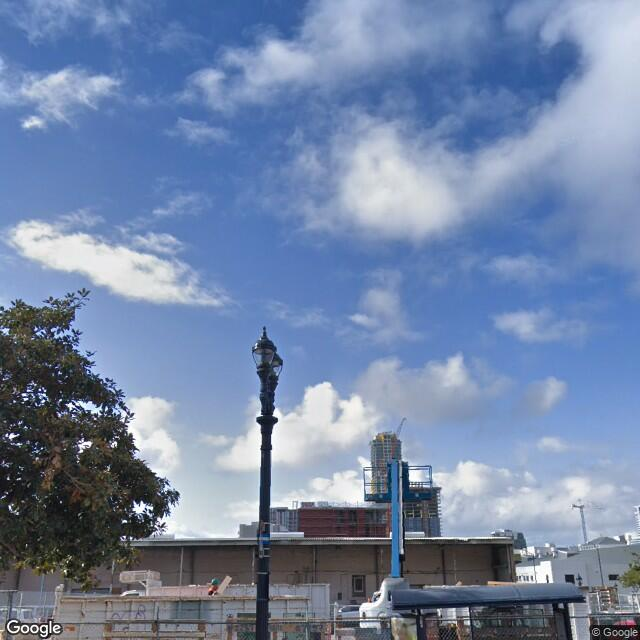light: (252, 341, 273, 376)
